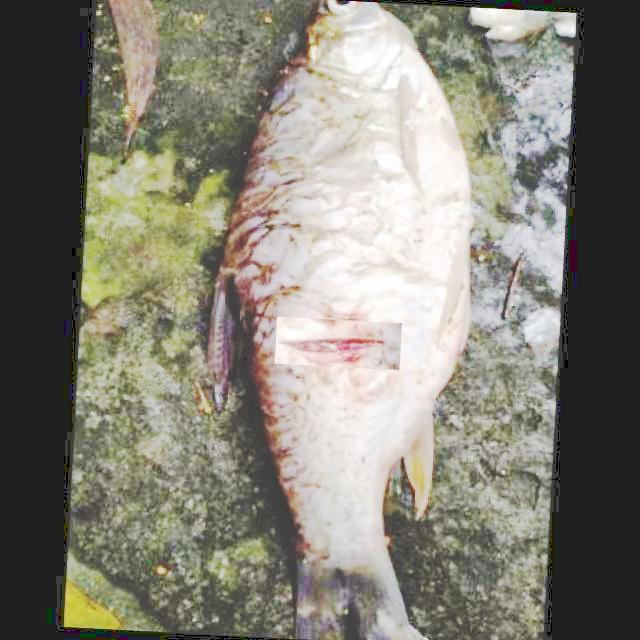Aeromonas Septicemia: (206, 0, 474, 640)
